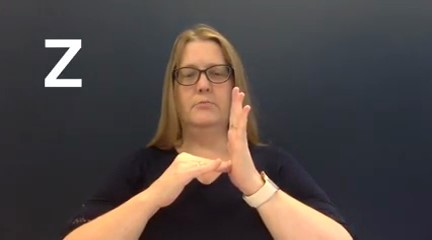Z: (155, 85, 257, 212)
